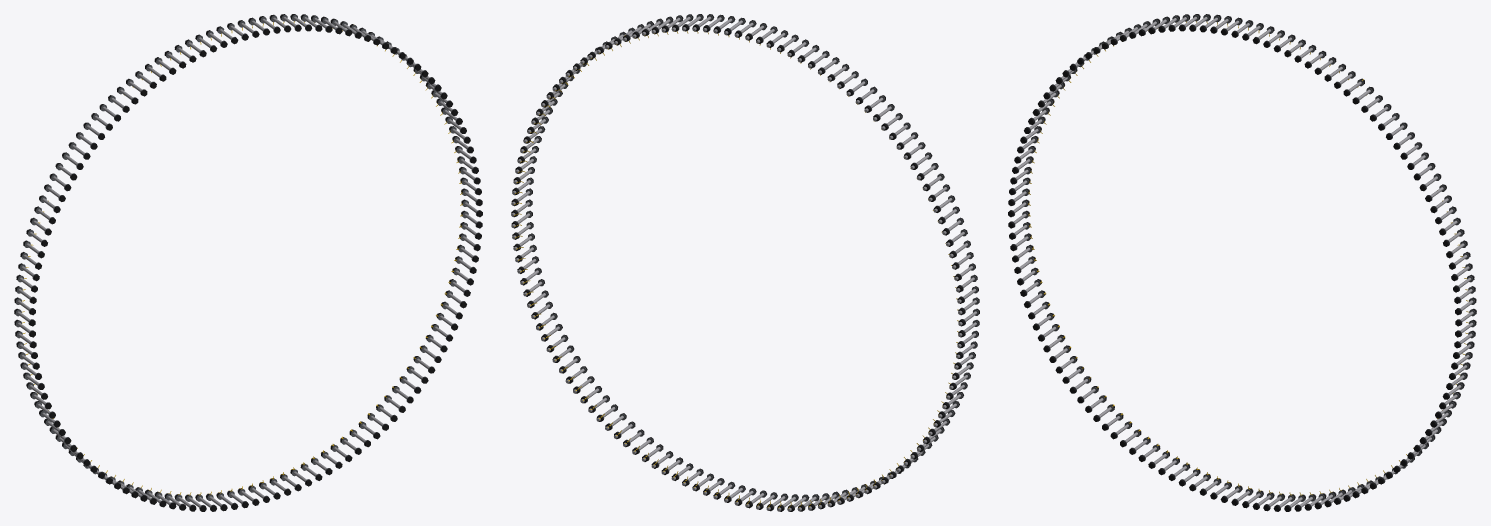
File: flange_2_bolts_loose.glb
3 renders of one model, left to right at view 1: azimuth 30°, elevation 25°; view 2: azimuth 150°, elevation 25°; view 3: azimuth 330°, elevation 25°, orthographic.
Visible parts, largest first — view 1: flange_2_bolts_loose; view 2: flange_2_bolts_loose; view 3: flange_2_bolts_loose.
Part boxes in pixels (box(x1,y1,x2,y2)): flange_2_bolts_loose: box(14, 14, 482, 511); flange_2_bolts_loose: box(511, 14, 979, 511); flange_2_bolts_loose: box(1008, 14, 1476, 511).
Size of the model in its own units: 5.72 by 5.72 by 0.384.
4 materials, 3 textured.
